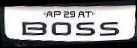character: (21, 21, 46, 36), (51, 21, 71, 36), (75, 21, 95, 36), (99, 21, 119, 36), (53, 10, 61, 18), (45, 10, 52, 18), (62, 10, 69, 18), (77, 10, 84, 18), (84, 10, 91, 17), (69, 10, 75, 18)
